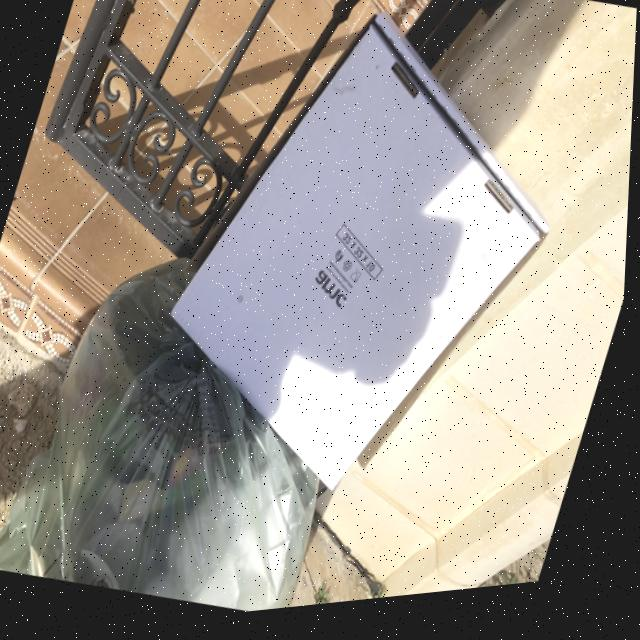Other: (124, 1, 620, 555)
Recycled Waste -Grey or Green Bag-: (1, 204, 404, 640)
